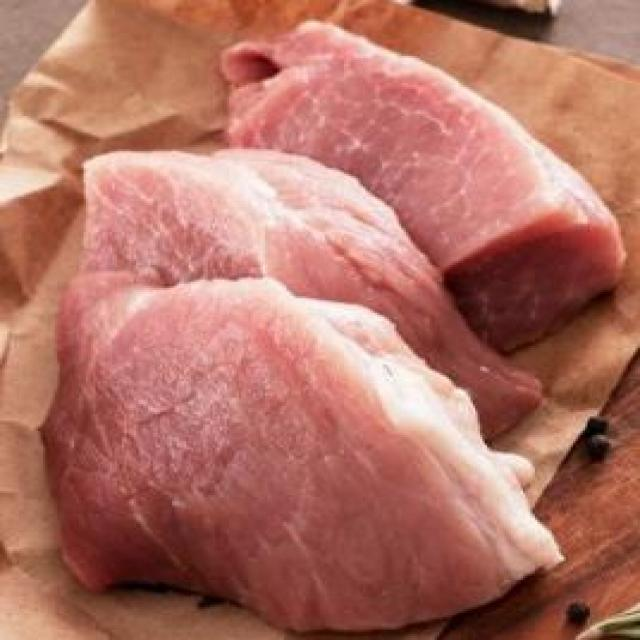pork: (52, 267, 569, 630), (221, 16, 630, 354)
